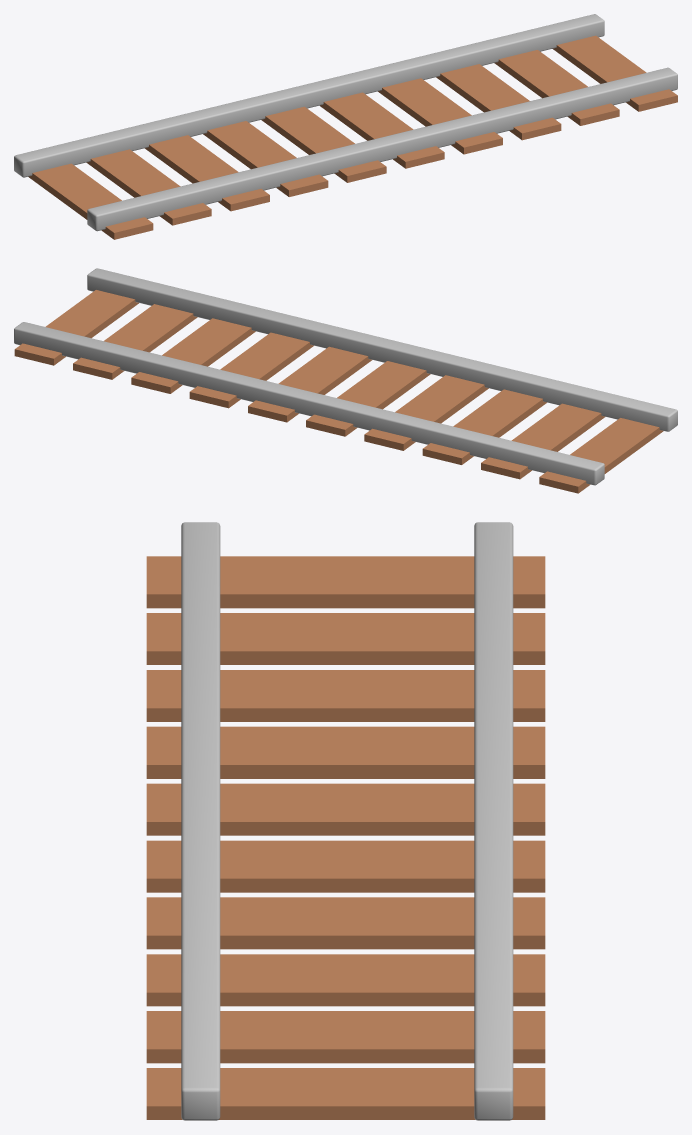
The model's file is Rail01.glb.
3 renders of one model, top to bottom at view 1: azimuth 30°, elevation 25°; view 2: azimuth 150°, elevation 25°; view 3: azimuth 270°, elevation 25°, orthographic. The views are drawn at different scales.
Visible parts, largest first — view 1: Cube.014, Cube.003, Cube; view 2: Cube.014, Cube, Cube.003; view 3: Cube.014, Cube, Cube.003.
Boxes of the visible parts, x1,y1,x2,y2 form: Cube.014: (28, 35, 677, 239); Cube.003: (14, 14, 604, 177); Cube: (87, 67, 677, 231); Cube.014: (14, 290, 663, 493); Cube: (87, 268, 677, 431); Cube.003: (14, 322, 604, 485); Cube.014: (146, 556, 545, 1119); Cube: (181, 522, 220, 1120); Cube.003: (474, 522, 513, 1120).
Bounding box in the file's own units: 2 × 0.0654 × 0.5921.
